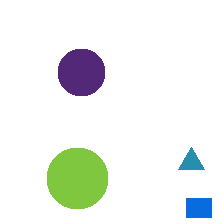circle: (47, 148, 107, 208), (58, 49, 104, 95)
rectangle: (186, 198, 211, 217)
triangle: (178, 147, 204, 169)
